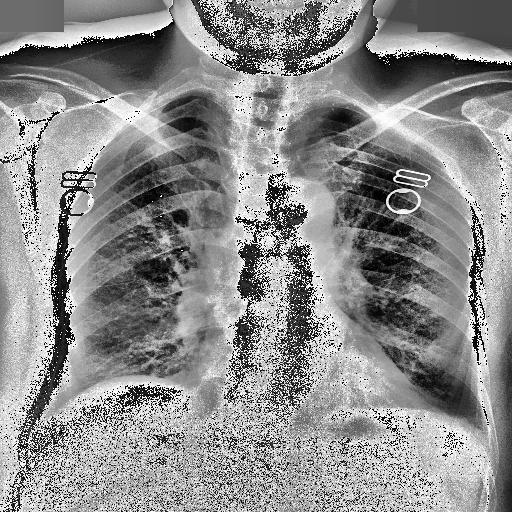0- Aortic enlargement: (270, 175, 336, 248), (274, 175, 336, 247), (265, 177, 335, 238)
3- Cardiomegaly: (195, 355, 431, 416)
9- Other lesion: (314, 78, 360, 116)
